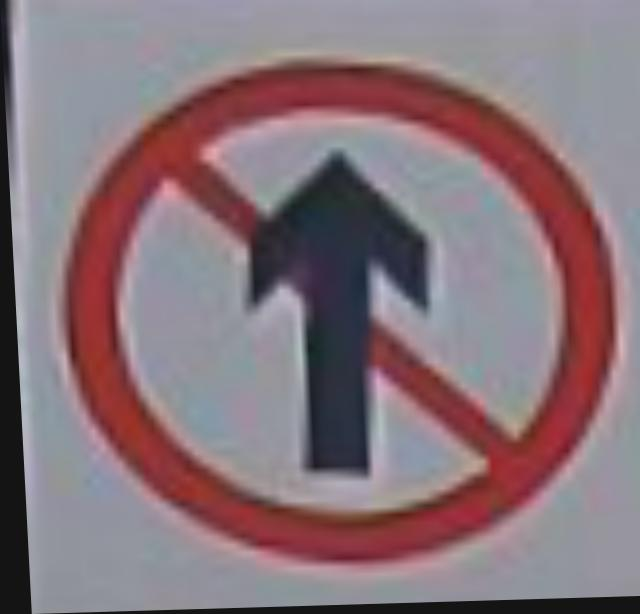not_go_straight: (49, 50, 623, 581)
